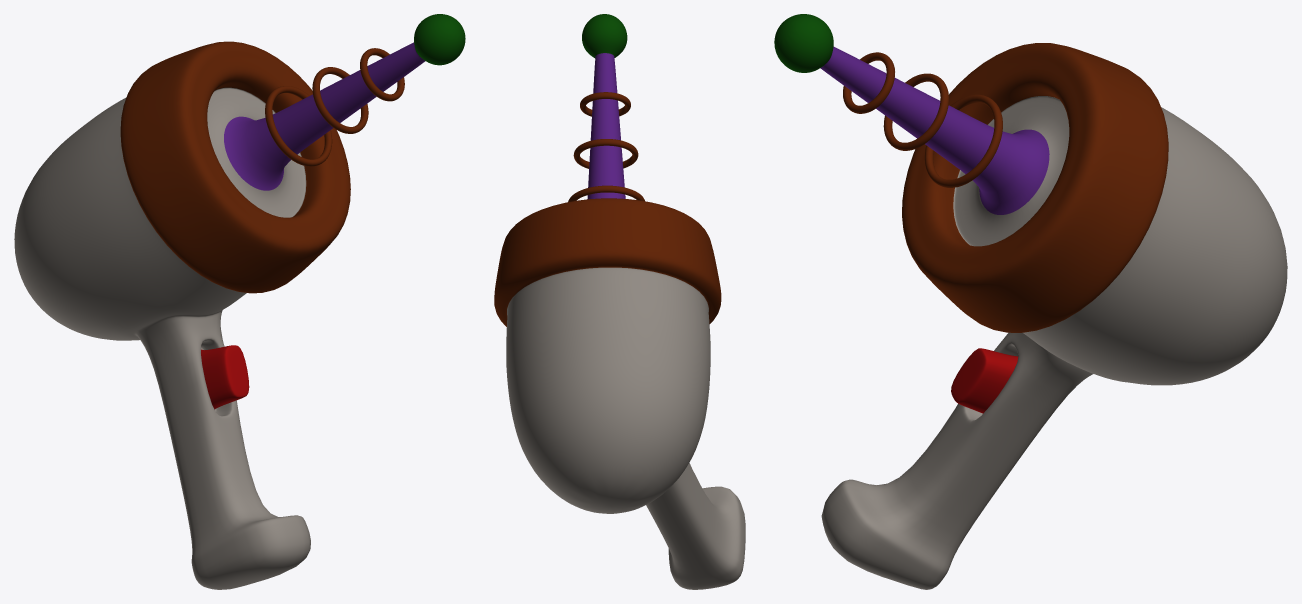
Rendered from astronaut_allAnimations_Gun_Recolored.fbx.
3 views of the same model, side by side, from view 1: azimuth 30°, elevation 25°; view 2: azimuth 150°, elevation 25°; view 3: azimuth 270°, elevation 25° (orthographic). The views are drawn at different scales.
Parts seen in each view (by area): view 1: gun.002; view 2: gun.002; view 3: gun.002.
Boxes of the visible parts, x1,y1,x2,y2 form: gun.002: (14, 14, 465, 589); gun.002: (494, 14, 745, 589); gun.002: (774, 14, 1287, 589).
Size of the model in its own units: 59.2 by 117 by 83.17.
